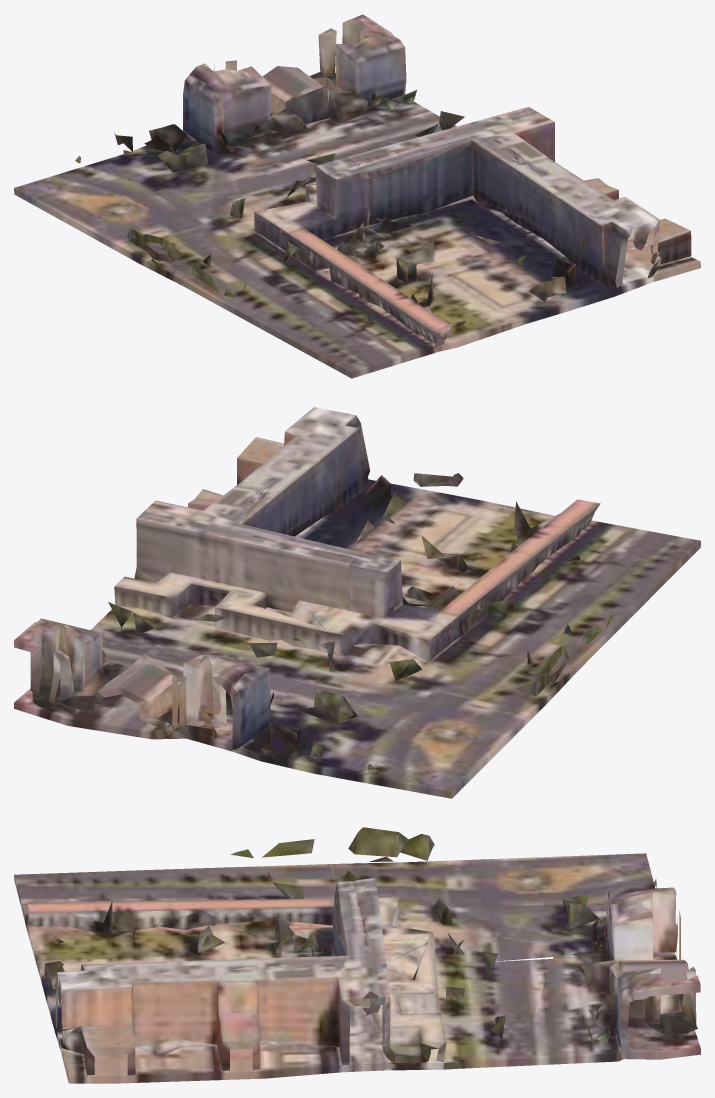
The picture shows the model from 3 angles, top to bottom: view 1: azimuth 30°, elevation 25°; view 2: azimuth 150°, elevation 25°; view 3: azimuth 270°, elevation 25°; orthographic projection. The views are drawn at different scales.
Parts seen in each view (by area): view 1: Mesh_0; view 2: Mesh_0; view 3: Mesh_0.
Part boxes in pixels (<box>): Mesh_0: <box>14,14,700,378</box>; Mesh_0: <box>14,407,700,798</box>; Mesh_0: <box>14,827,700,1083</box>.
Bounding box in the file's own units: 266 × 47.31 × 330.
1 material, 1 textured.
